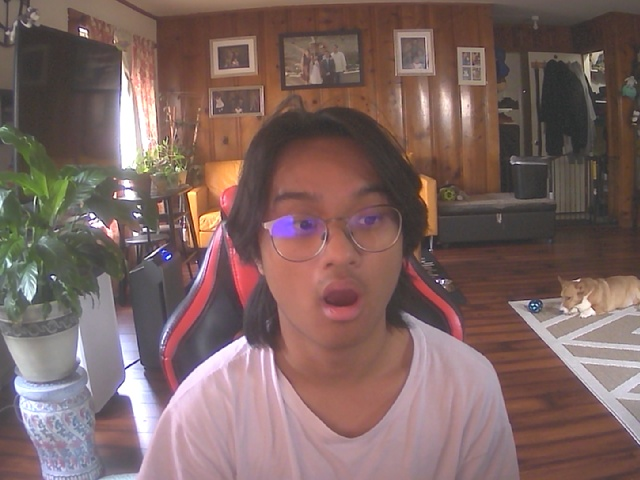fear: (248, 116, 420, 352)
